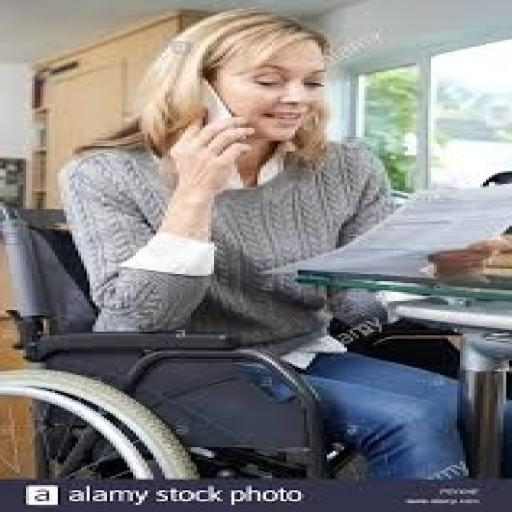calling: (55, 8, 477, 482)
